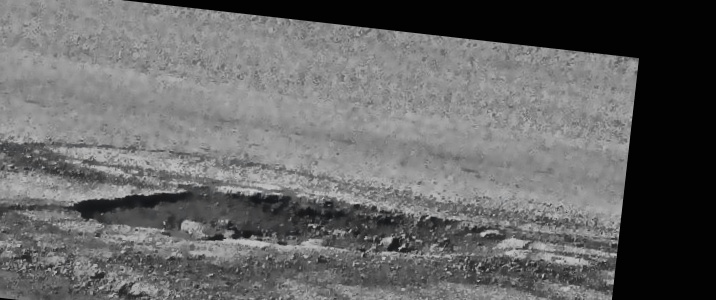pothole: (65, 160, 510, 275)
